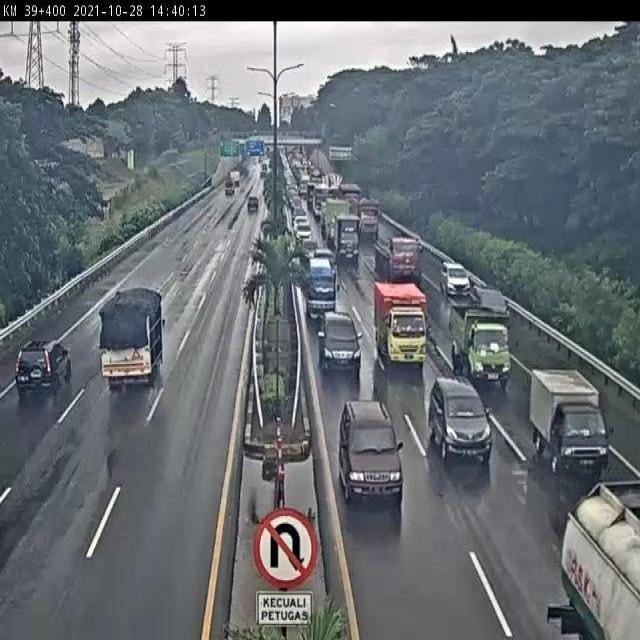Car: (325, 379, 421, 514), (427, 377, 493, 471), (14, 338, 70, 398), (318, 311, 362, 379), (441, 261, 470, 297), (247, 195, 259, 212)
Truck: (559, 481, 639, 638), (528, 369, 607, 481), (98, 287, 164, 392), (447, 297, 512, 390), (373, 280, 428, 370), (303, 250, 338, 319), (257, 436, 311, 480), (374, 234, 420, 285), (595, 480, 640, 529), (319, 197, 350, 250), (469, 289, 509, 329), (332, 214, 360, 267), (168, 123, 205, 152), (357, 199, 382, 241), (308, 148, 333, 179), (372, 238, 390, 280), (340, 183, 362, 216), (288, 252, 309, 284), (293, 212, 313, 245), (314, 179, 332, 213), (322, 173, 344, 196), (262, 453, 278, 482), (290, 198, 306, 226), (287, 136, 323, 148), (282, 187, 295, 220), (290, 158, 304, 188), (238, 156, 255, 179), (311, 247, 334, 263), (34, 159, 61, 172), (264, 140, 289, 154), (280, 149, 292, 176), (350, 134, 368, 152), (309, 168, 323, 191), (283, 174, 296, 198), (98, 198, 112, 220), (220, 138, 239, 154), (300, 174, 312, 199), (287, 147, 301, 167), (326, 226, 336, 251), (306, 182, 316, 206), (67, 102, 84, 116), (230, 131, 248, 144), (161, 148, 179, 161), (312, 197, 322, 220), (270, 153, 280, 174), (369, 197, 381, 214), (229, 171, 240, 188), (208, 126, 221, 140), (296, 146, 306, 164), (127, 149, 135, 171), (173, 139, 185, 153), (201, 175, 213, 189), (344, 150, 358, 162), (321, 120, 328, 144), (330, 254, 338, 274), (280, 115, 290, 131), (238, 141, 247, 157), (225, 181, 234, 196), (249, 149, 262, 159), (260, 161, 268, 176), (241, 147, 249, 162), (417, 240, 424, 257), (441, 259, 450, 272), (614, 24, 628, 32), (321, 217, 326, 238), (440, 280, 446, 296), (275, 415, 282, 428), (265, 146, 271, 158), (202, 172, 208, 182)
